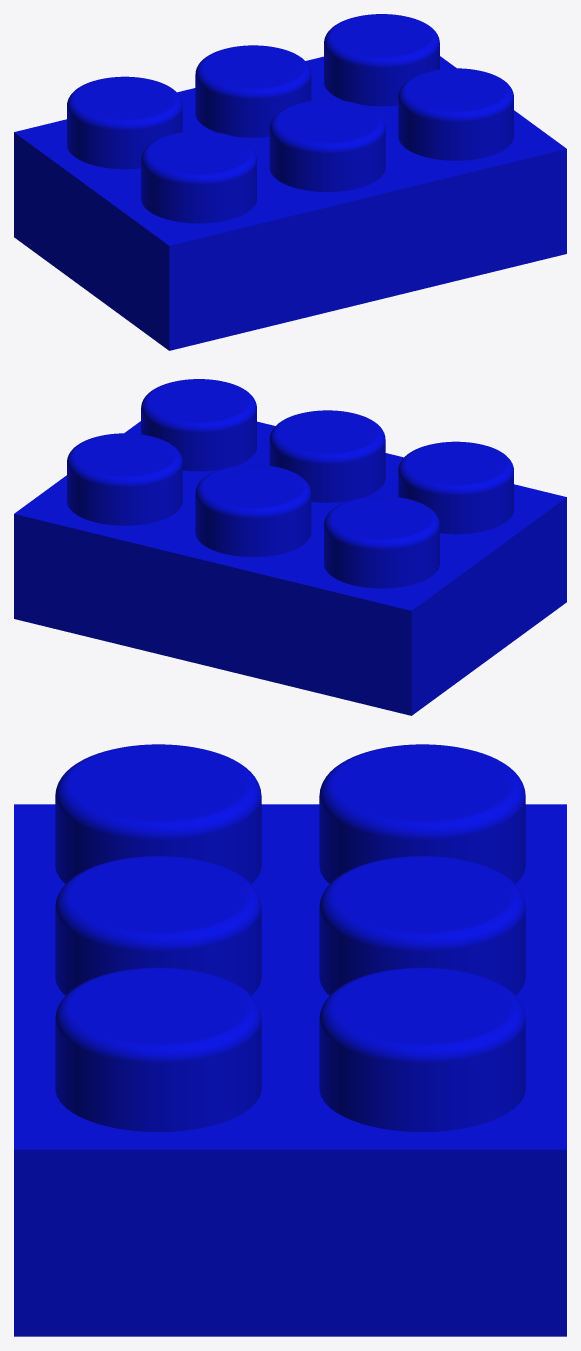
The model's file is RectangleSix.gltf.
3 views of the same model, one above another, from view 1: azimuth 30°, elevation 25°; view 2: azimuth 150°, elevation 25°; view 3: azimuth 270°, elevation 25° (orthographic). The views are drawn at different scales.
Visible parts, largest first — view 1: Box 5, Box 2, Box, Cylinder 4, Cylinder 7, Cylinder 5, Cylinder 3, Cylinder 6, Cylinder 2, Box 4, Box 3; view 2: Box 4, Box 2, Box, Cylinder 3, Cylinder 6, Cylinder 2, Cylinder 4, Cylinder 7, Cylinder 5, Box 3, Box 5; view 3: Box 3, Box, Cylinder 7, Cylinder 6, Cylinder 5, Cylinder 2, Cylinder 4, Cylinder 3, Box 5, Box 4, Box 2.
Boxes of the visible parts, x1,y1,x2,y2 form: Box 5: [157, 149, 566, 350]; Box 2: [14, 127, 189, 350]; Box: [14, 57, 566, 266]; Cylinder 4: [269, 99, 385, 191]; Cylinder 7: [398, 68, 513, 160]; Cylinder 5: [141, 131, 256, 223]; Cylinder 3: [195, 45, 311, 137]; Cylinder 6: [324, 14, 439, 106]; Cylinder 2: [67, 76, 182, 169]; Box 4: [14, 56, 323, 245]; Box 3: [440, 56, 566, 253]; Box 4: [14, 513, 423, 715]; Box 2: [391, 492, 566, 715]; Box: [14, 421, 566, 630]; Cylinder 3: [195, 464, 311, 556]; Cylinder 6: [67, 433, 182, 525]; Cylinder 2: [324, 496, 439, 588]; Cylinder 4: [269, 410, 385, 502]; Cylinder 7: [141, 379, 256, 471]; Cylinder 5: [398, 441, 513, 534]; Box 3: [14, 421, 140, 622]; Box 5: [257, 421, 566, 610]; Box 3: [14, 1132, 566, 1336]; Box: [14, 804, 566, 1186]; Cylinder 7: [55, 967, 261, 1132]; Cylinder 6: [319, 967, 525, 1132]; Cylinder 5: [55, 744, 261, 883]; Cylinder 2: [319, 744, 525, 883]; Cylinder 4: [55, 856, 261, 995]; Cylinder 3: [319, 856, 525, 995]; Box 5: [14, 804, 55, 1336]; Box 4: [525, 804, 566, 1336]; Box 2: [14, 804, 566, 821].
Bounding box in the file's own units: 0.099 × 0.036 × 0.067.
